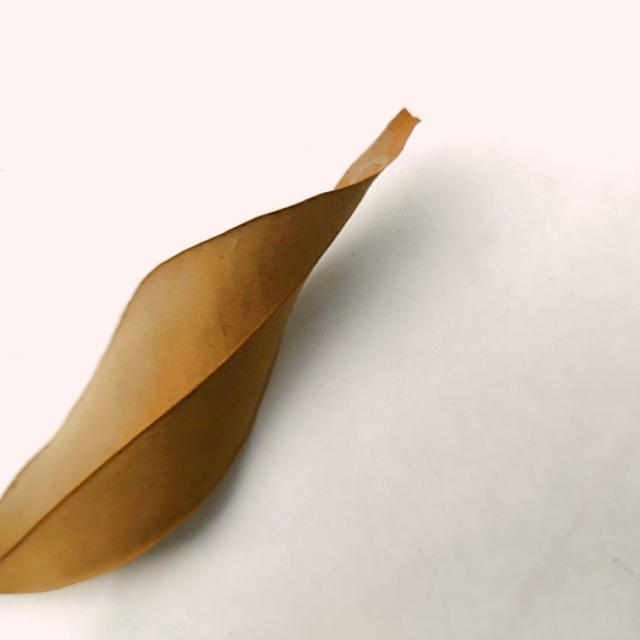Dry_Leaf-Lychee: (0, 108, 420, 598)
